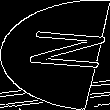N_E: (6, 32, 104, 78)
